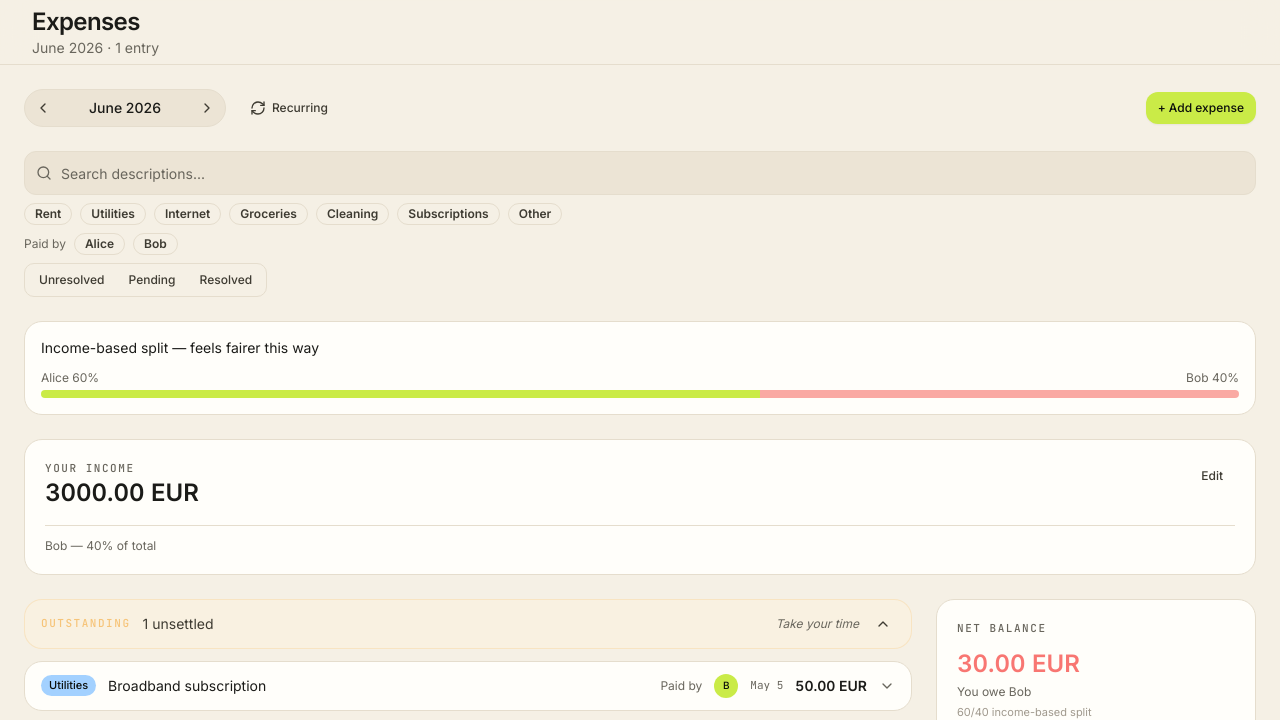
Test: <ExpensesPage /> mode matrix › I-m.2 — split + income_based renders income-based signal
The width and height of the screenshot is (1280, 720).
Check: the text "Income-based split — feels fairer this way" is shown, box [41,339,319,356]
Click the text "Broadband subscription". click: (187,685)
box: [108,676,266,694]
(page scrolled)
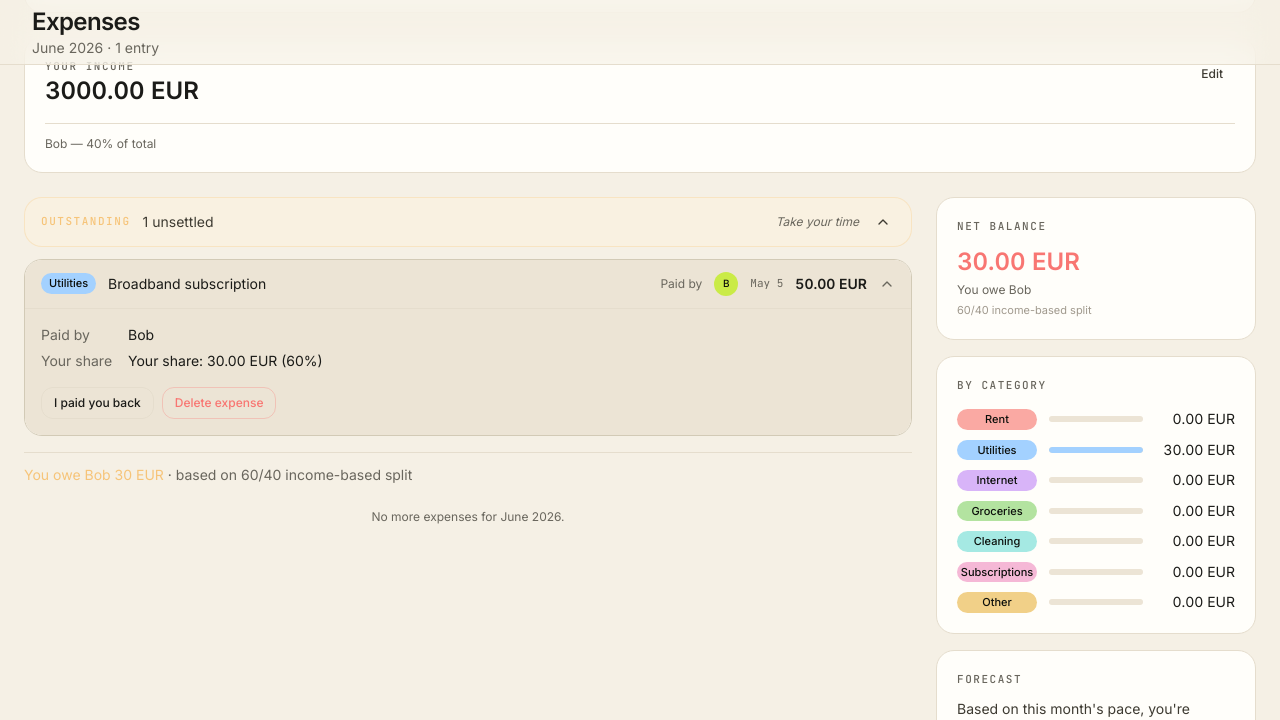
Check: the text "Your share: 30.00 EUR (60%)" is shown, box [128,352,323,368]
